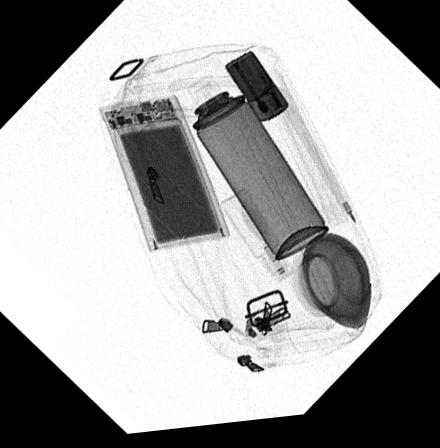Lighter: (225, 55, 289, 127)
Powerbank: (97, 98, 231, 255)
Sprayer: (169, 63, 328, 265)
